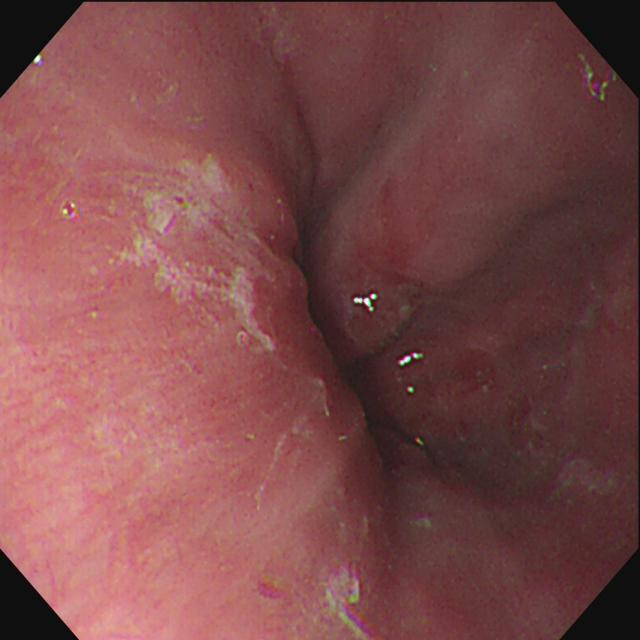J: (121, 154, 278, 346), (551, 459, 619, 500)
U: (327, 589, 373, 638), (577, 55, 618, 102), (353, 293, 380, 315), (397, 352, 425, 369)
